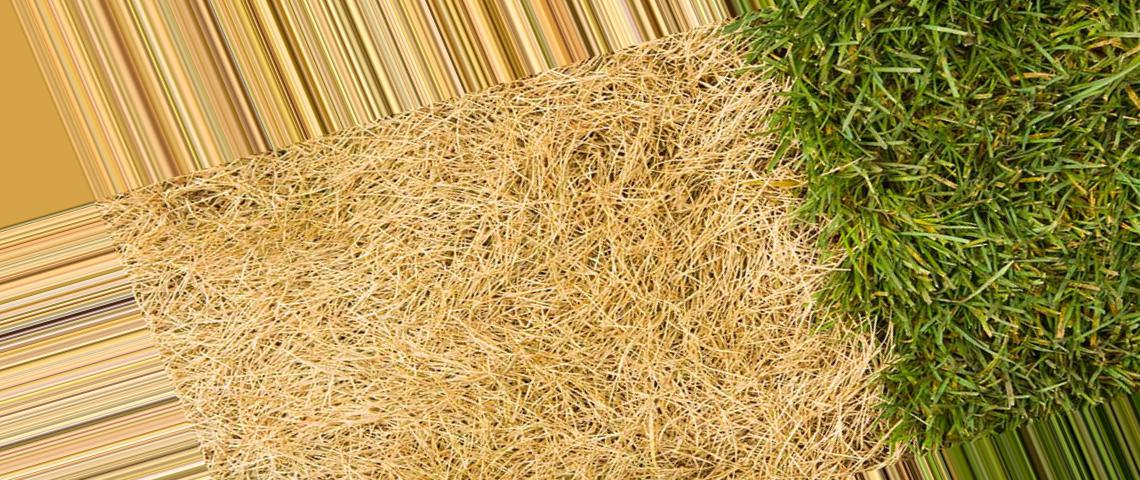patch: (261, 366, 795, 470), (161, 201, 531, 339), (500, 123, 685, 266), (591, 285, 815, 397)
